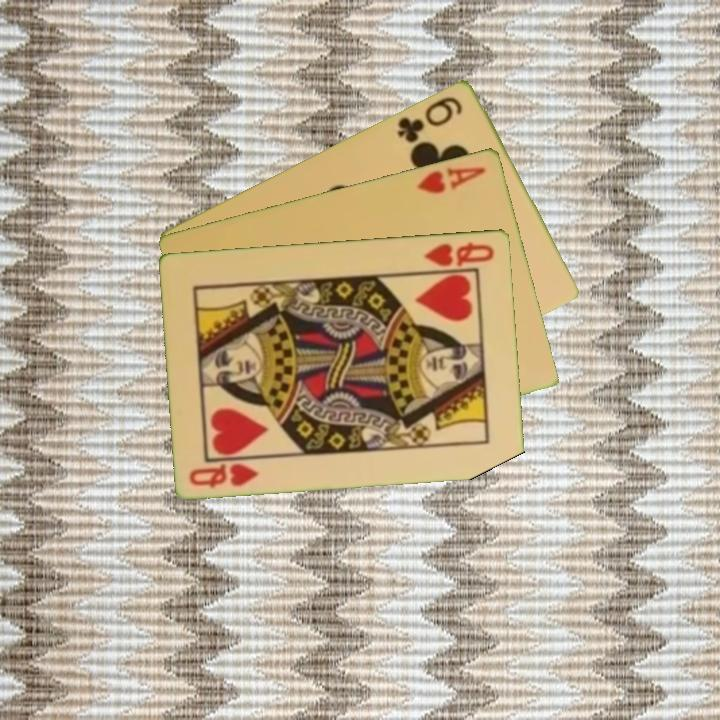6c: (394, 92, 466, 145)
Ah: (413, 162, 489, 196)
Qh: (421, 238, 497, 270), (186, 459, 262, 490)
